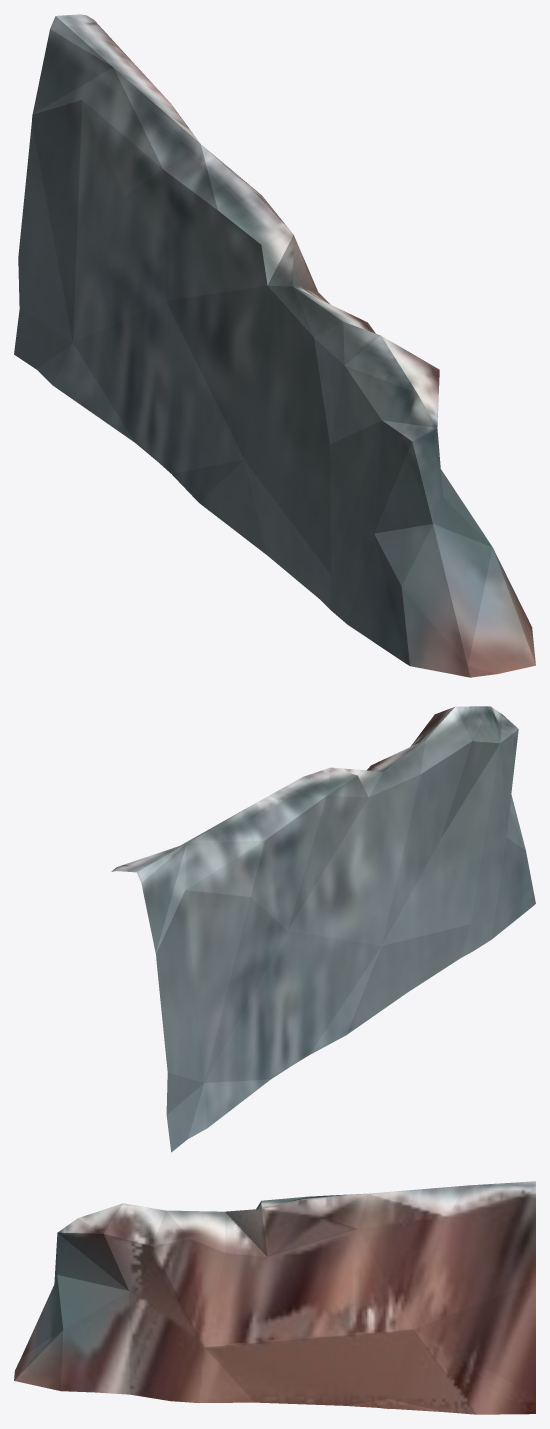
3 renders of one model, top to bottom at view 1: azimuth 30°, elevation 25°; view 2: azimuth 150°, elevation 25°; view 3: azimuth 270°, elevation 25°, orthographic. The views are drawn at different scales.
Bounding box in the file's own units: 0.3077 × 0.441 × 1.09.
Materials: 1 (1 with a texture image).
